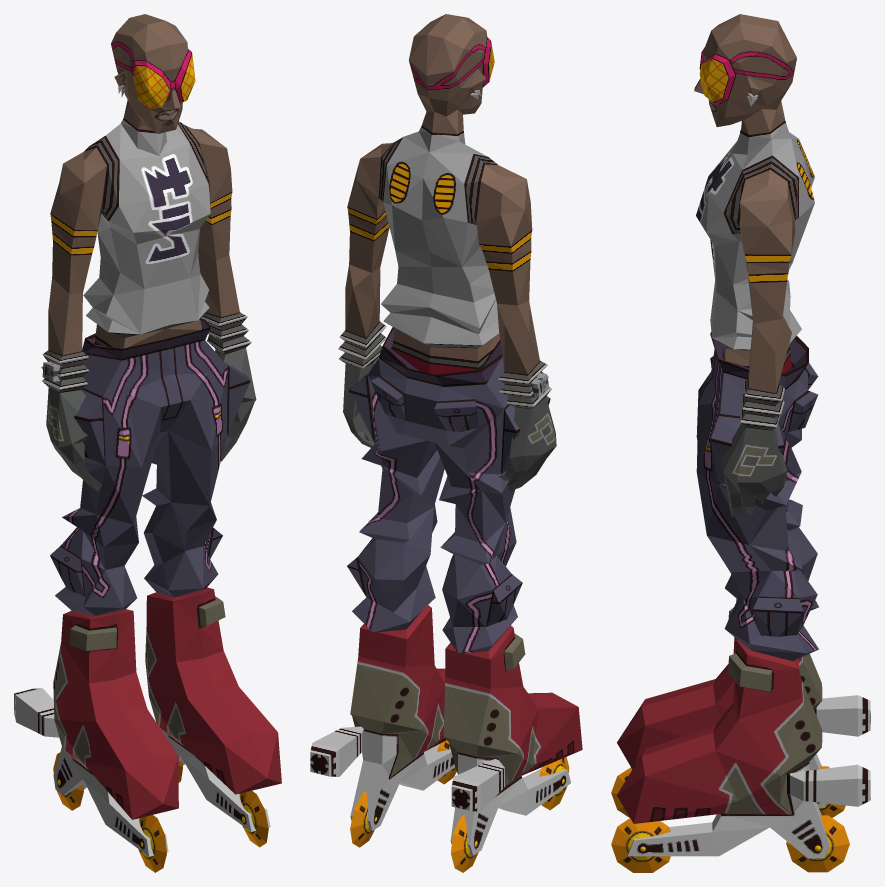
The model's file is garam.obj.
The picture shows the model from 3 angles, left to right: view 1: azimuth 30°, elevation 25°; view 2: azimuth 150°, elevation 25°; view 3: azimuth 270°, elevation 25°; orthographic projection. The views are drawn at different scales.
Parts seen in each view (by area): view 1: garam; view 2: garam; view 3: garam.
Part boxes in pixels (x1=…): garam: x1=14, y1=14, x2=281, y2=872; garam: x1=310, y1=14, x2=582, y2=872; garam: x1=611, y1=14, x2=870, y2=872.
Size of the model in its own units: 4.75 by 18.3 by 5.2.
2 materials, 2 textured.
